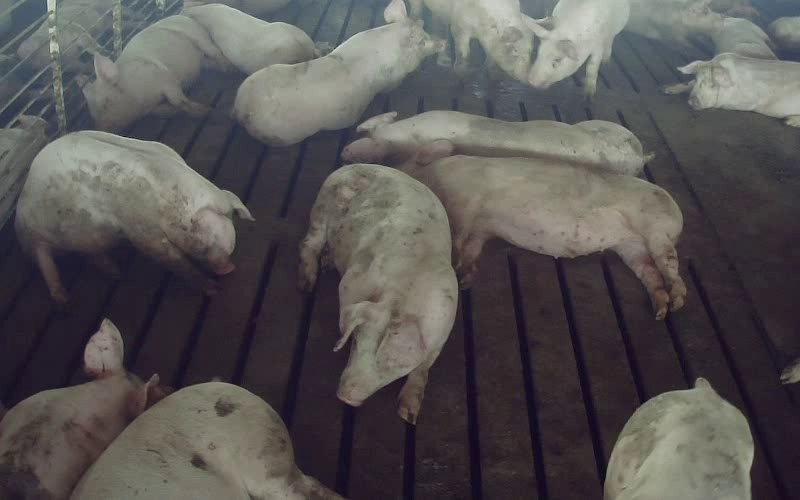pig: (403, 140, 685, 318), (299, 165, 457, 423), (15, 131, 251, 302), (71, 382, 342, 499), (234, 0, 445, 145), (0, 320, 163, 499), (342, 111, 650, 175), (604, 378, 753, 499), (77, 15, 231, 131), (412, 0, 548, 82), (664, 53, 799, 126), (182, 0, 315, 73)
